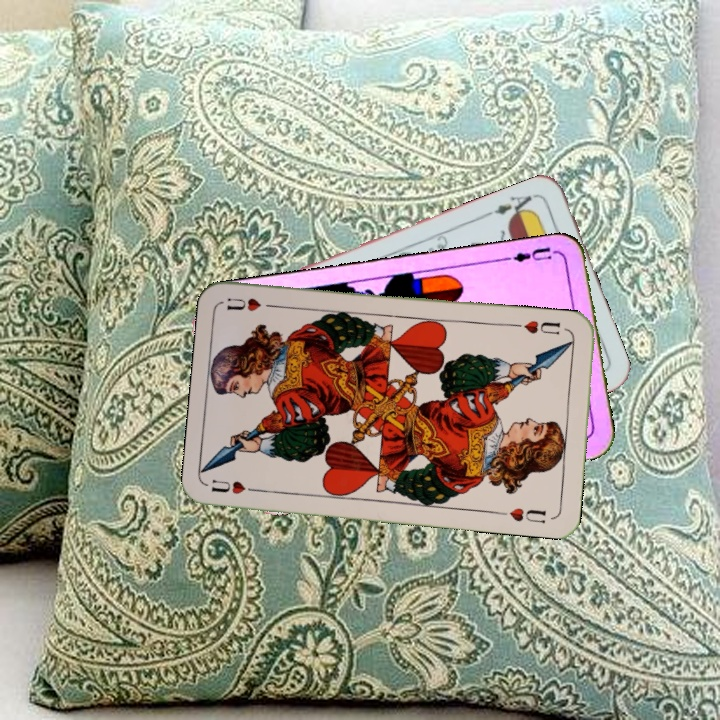EA: (482, 190, 539, 222)
EU: (503, 243, 562, 265)
HU: (208, 476, 265, 497), (512, 316, 563, 337)
